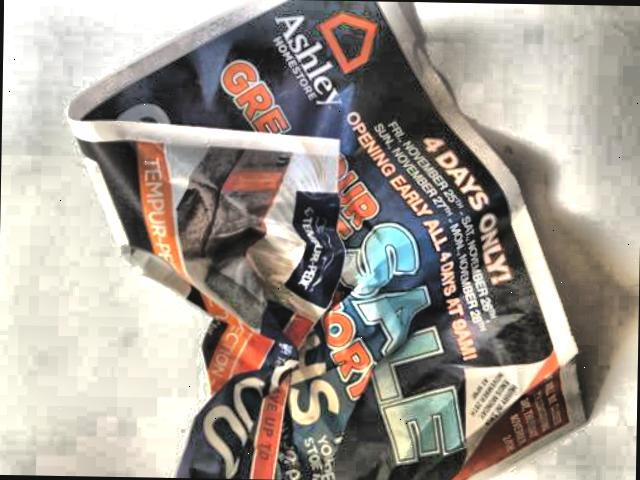Paper: (29, 0, 601, 480)
